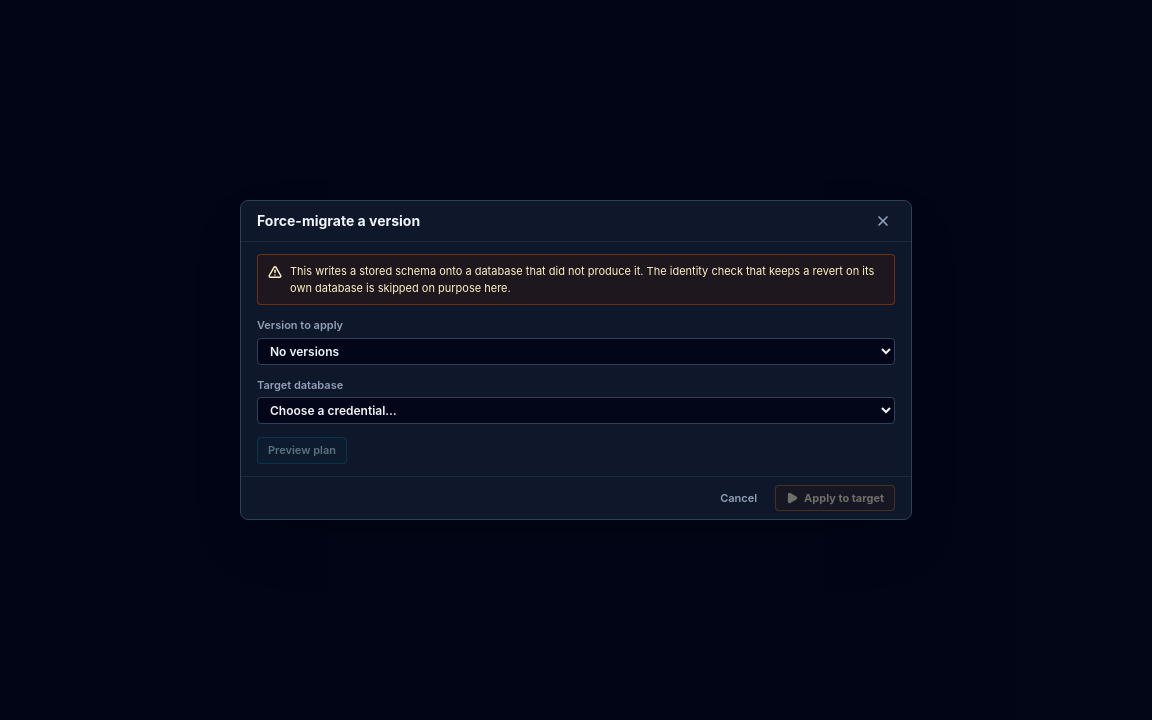
ForceMigrateModal › requires both acknowledgements on a lossy plan
expect the dropdown with test id "force-migrate-version" is shown: met, box [257, 338, 895, 364]
Select "staging [postgres] · shop_staging" in the dropdown with test id "force-migrate-target" at (576,410), box [257, 397, 895, 424]
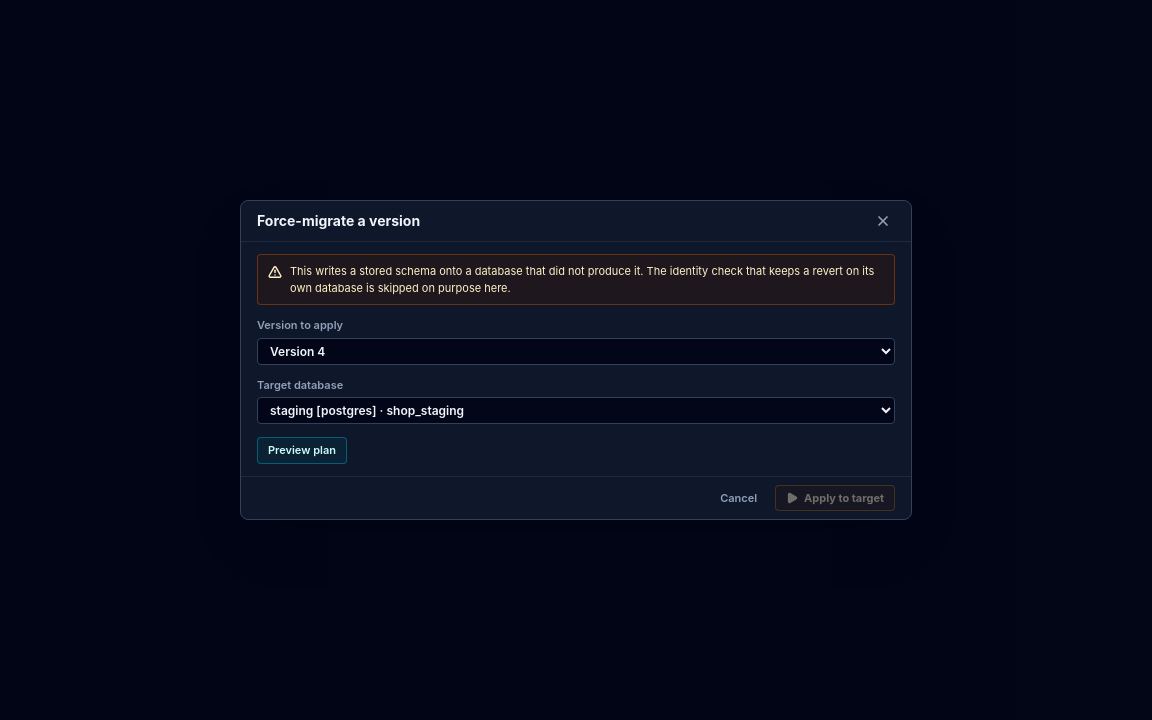
Click the button with test id "force-migrate-preview" at (302,450), box [257, 437, 347, 464]
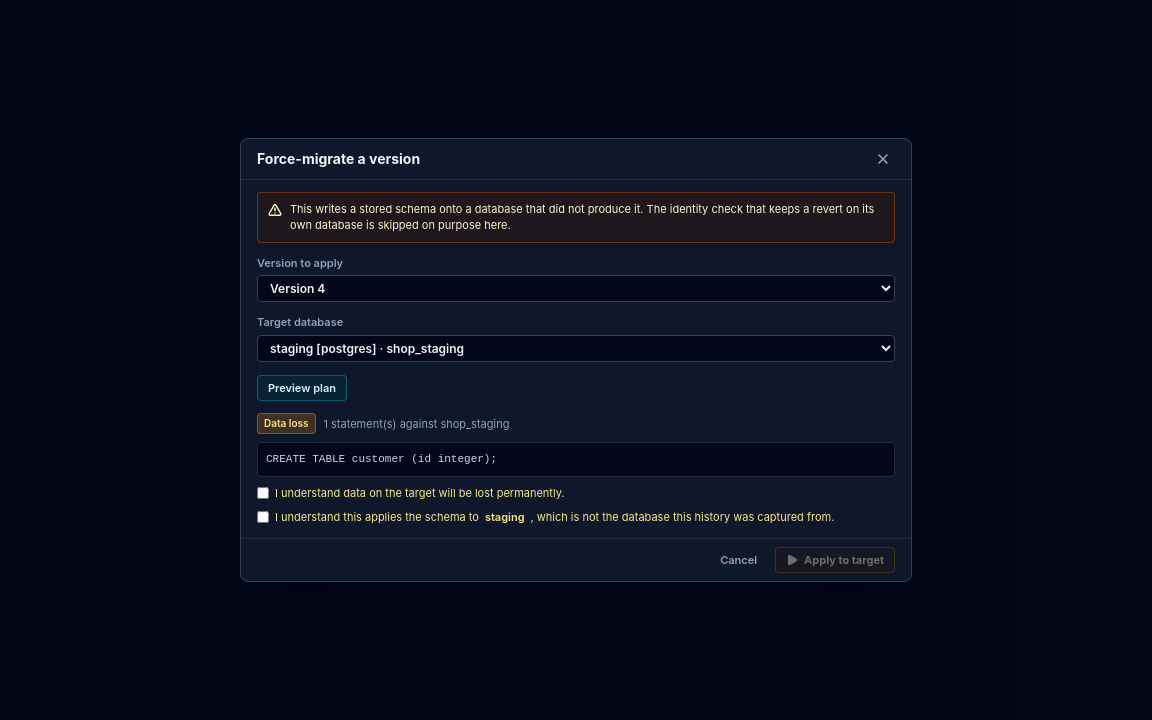
expect the text "Data loss" is shown: met, box [257, 413, 316, 434]
Click the checkbox with test id "force-migrate-confirm-lossy" at (263,493), box [257, 487, 269, 499]
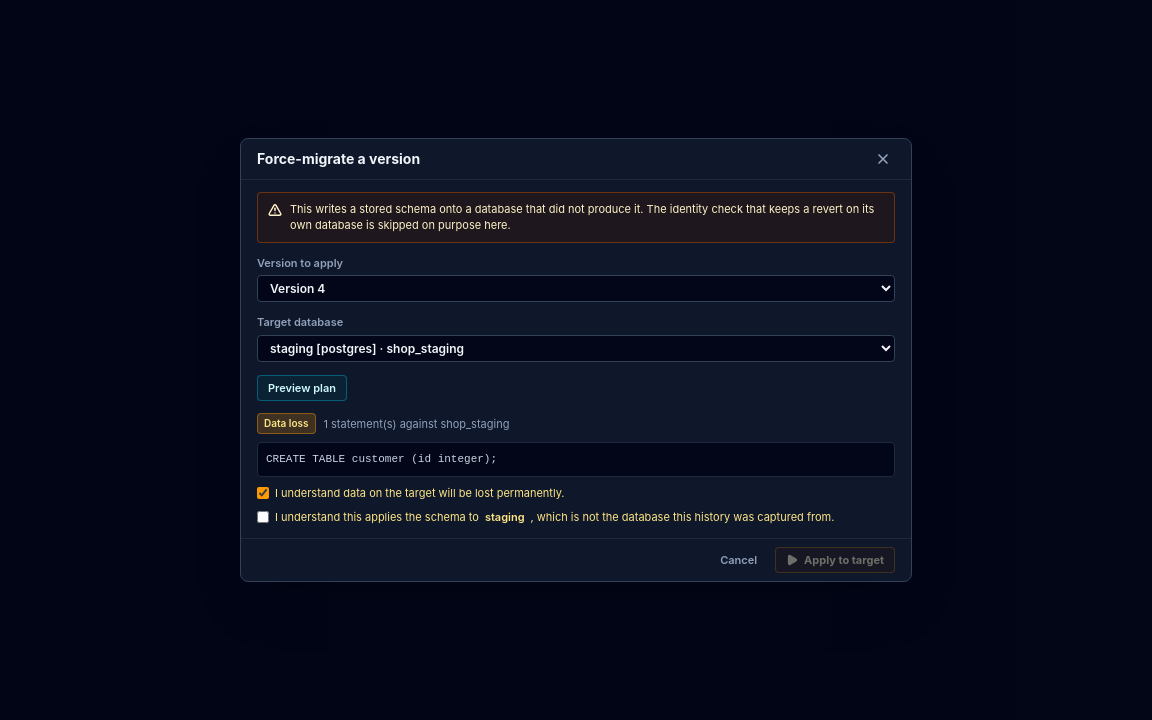
expect the button with test id "force-migrate-apply" is disabled: met, box [775, 547, 895, 573]
Click the checkbox with test id "force-migrate-confirm-force" at (263,517), box [257, 511, 269, 523]
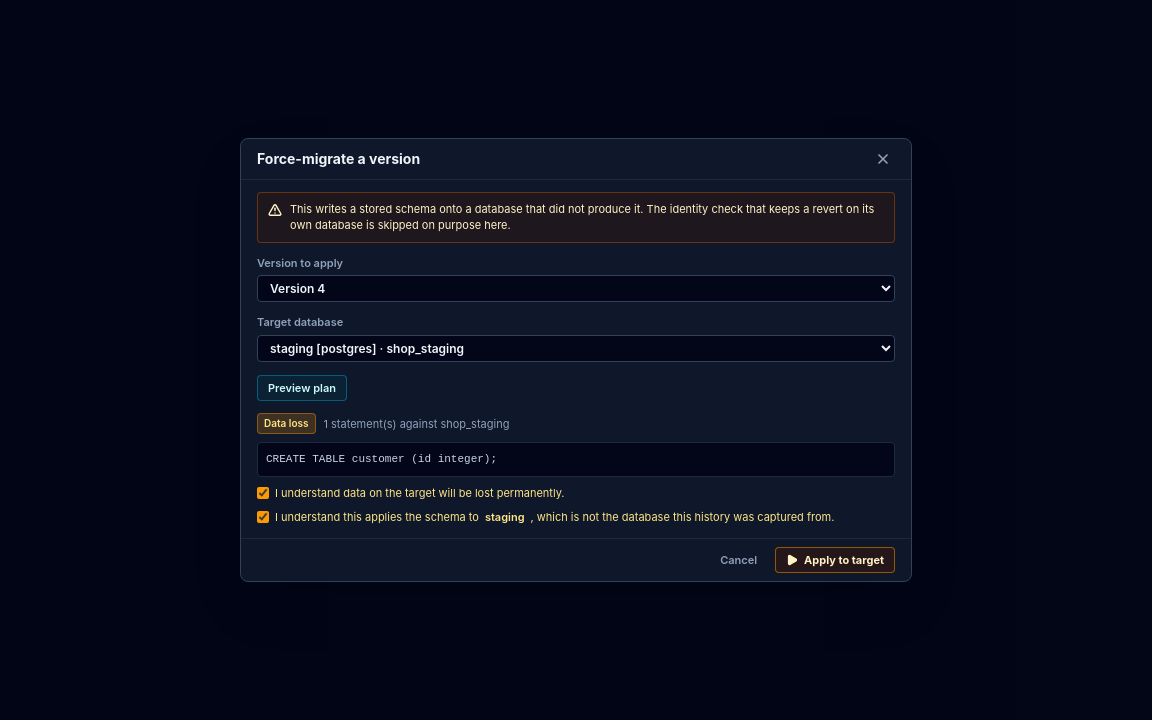
expect the button with test id "force-migrate-apply" is enabled: met, box [775, 547, 895, 573]
